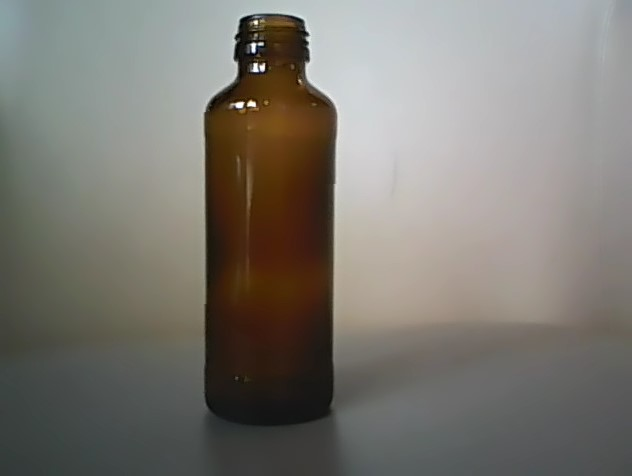Glass: (200, 7, 342, 432)
